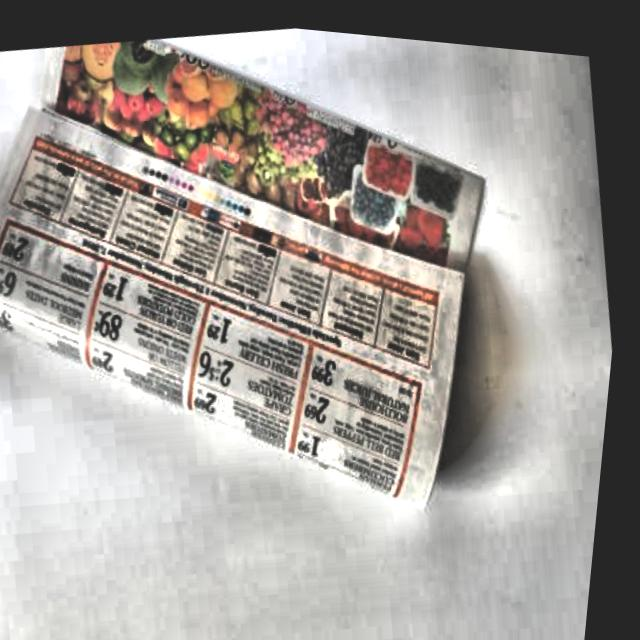Paper: (0, 0, 565, 604)
